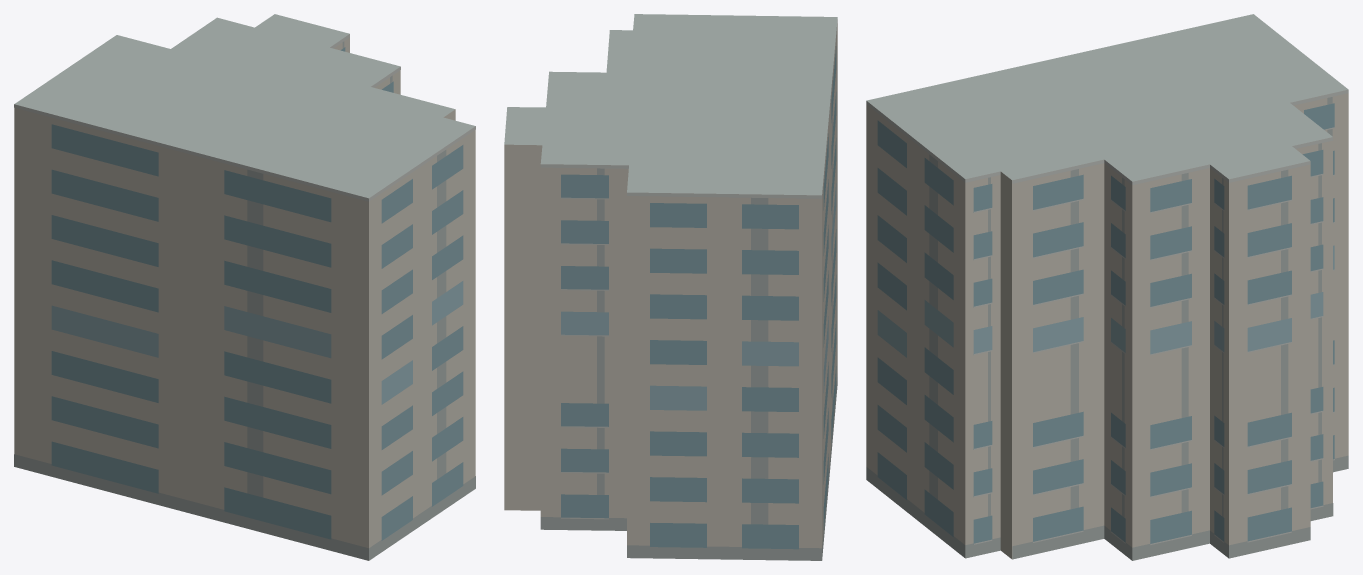
File: survey-upis-32704376.glb
The picture shows the model from 3 angles, left to right: view 1: azimuth 30°, elevation 25°; view 2: azimuth 150°, elevation 25°; view 3: azimuth 270°, elevation 25°; orthographic projection. The views are drawn at different scales.
Visible parts, largest first — view 1: survey-upis-32704376.tmp; view 2: survey-upis-32704376.tmp; view 3: survey-upis-32704376.tmp.
Boxes of the visible parts, <box> form: survey-upis-32704376.tmp: <box>14,14,475,560</box>; survey-upis-32704376.tmp: <box>504,14,837,560</box>; survey-upis-32704376.tmp: <box>866,14,1348,560</box>.
Bounding box in the file's own units: 24.2 × 25.5 × 29.4.
